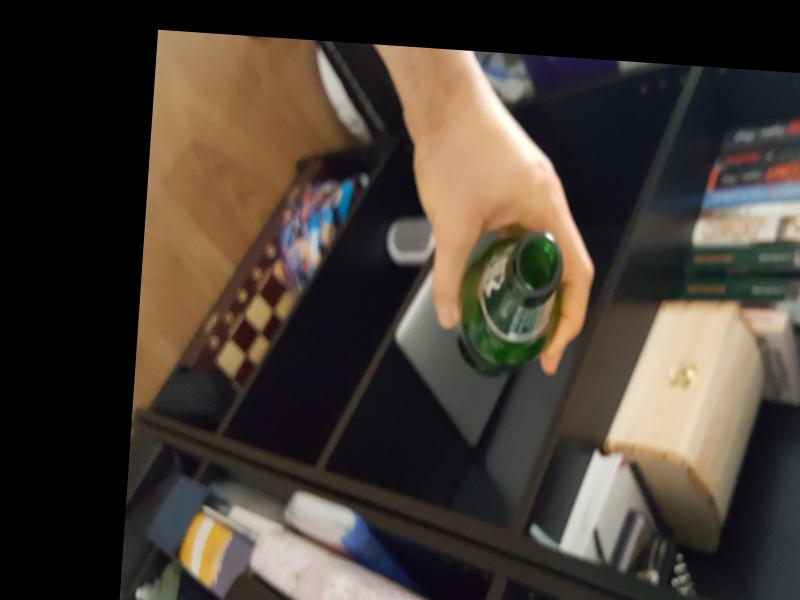Beer: (448, 224, 563, 380)
